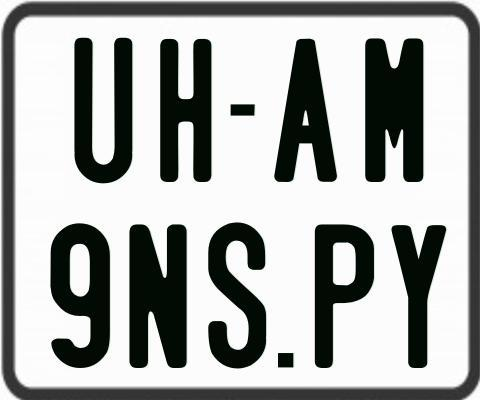9: (47, 220, 107, 366)
A: (271, 39, 336, 184)
H: (157, 39, 212, 182)
M: (365, 37, 427, 185)
N: (128, 224, 192, 372)
P: (313, 221, 378, 365)
S: (206, 222, 269, 374)
U: (71, 38, 134, 183)
Y: (391, 224, 450, 371)
